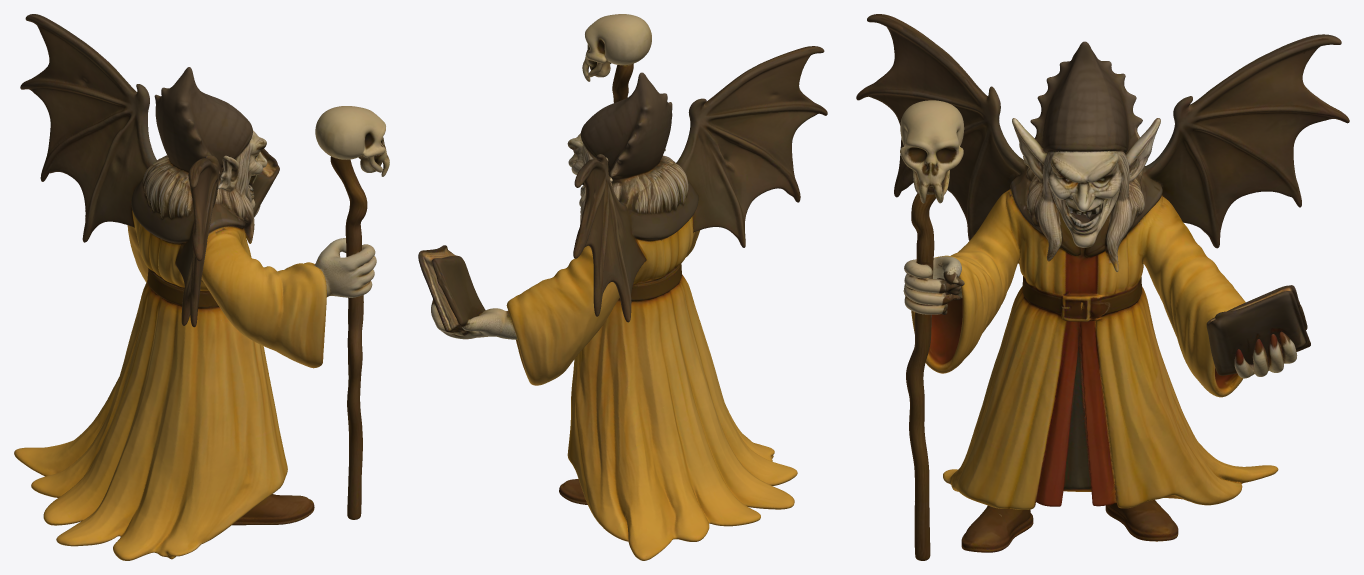
3 renders of one model, left to right at view 1: azimuth 30°, elevation 25°; view 2: azimuth 150°, elevation 25°; view 3: azimuth 270°, elevation 25°, orthographic. The views are drawn at different scales.
Parts seen in each view (by area): view 1: tripo_node_86ed9c45-9232-4548-8281-fe873a4d7fa7; view 2: tripo_node_86ed9c45-9232-4548-8281-fe873a4d7fa7; view 3: tripo_node_86ed9c45-9232-4548-8281-fe873a4d7fa7.
Boxes of the visible parts, bbox=[...] form: tripo_node_86ed9c45-9232-4548-8281-fe873a4d7fa7: bbox=[14, 14, 389, 560]; tripo_node_86ed9c45-9232-4548-8281-fe873a4d7fa7: bbox=[418, 14, 827, 560]; tripo_node_86ed9c45-9232-4548-8281-fe873a4d7fa7: bbox=[856, 14, 1349, 560].
Size of the model in its own units: 0.7114 by 1 by 0.9276.
Materials: 1 (1 with a texture image).
